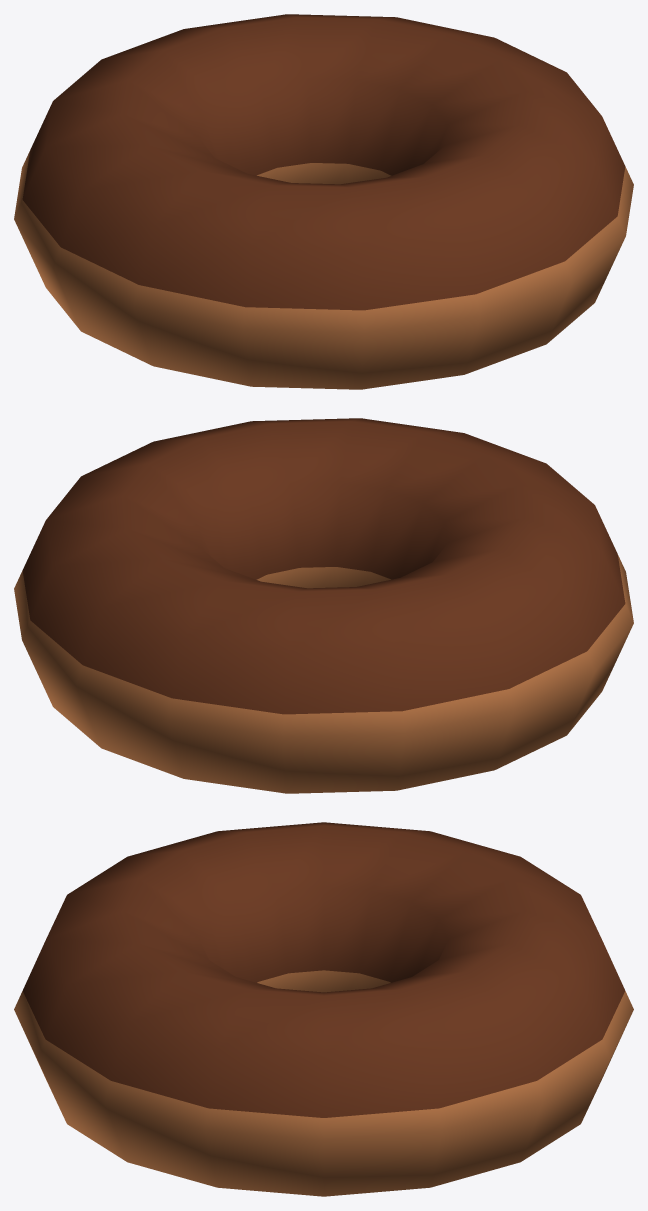
The model's file is Donut_01.fbx.
3 renders of one model, top to bottom at view 1: azimuth 30°, elevation 25°; view 2: azimuth 150°, elevation 25°; view 3: azimuth 270°, elevation 25°, orthographic.
Visible parts, largest first — view 1: Donut_01; view 2: Donut_01; view 3: Donut_01.
Part boxes in pixels (left/top/right/bottom): Donut_01: left=14, top=14, right=633, bottom=389; Donut_01: left=14, top=418, right=633, bottom=793; Donut_01: left=14, top=822, right=633, bottom=1196.
Size of the model in its own units: 0.121 by 0.0424 by 0.121.
